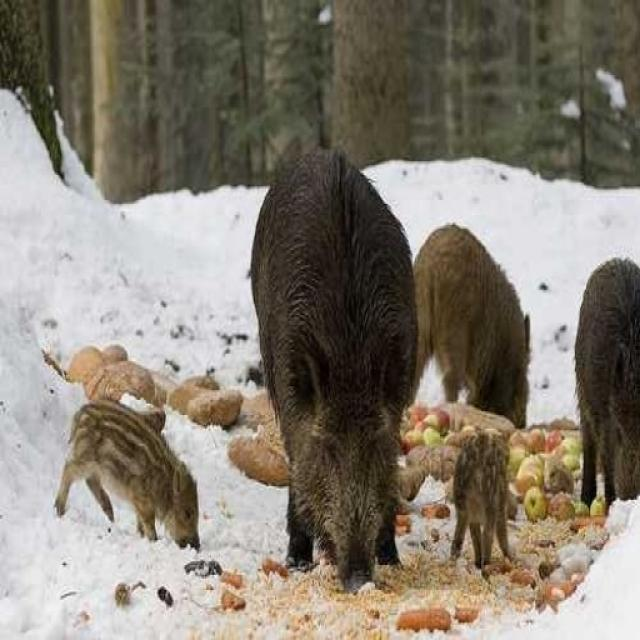pig: (208, 118, 375, 640), (399, 214, 555, 400), (44, 382, 205, 554), (559, 214, 640, 458)
